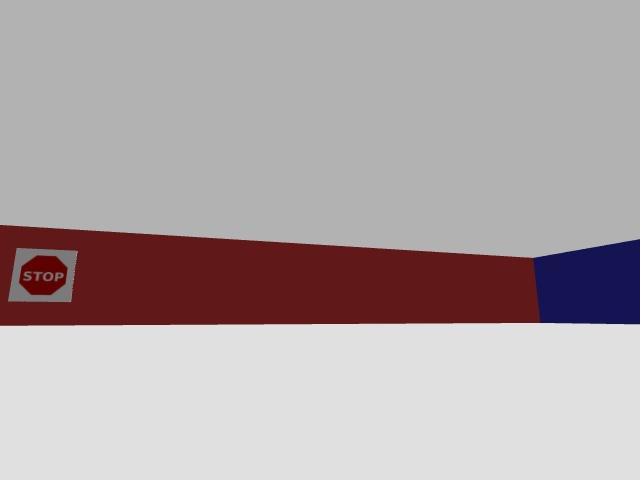stop: (9, 248, 77, 302)
